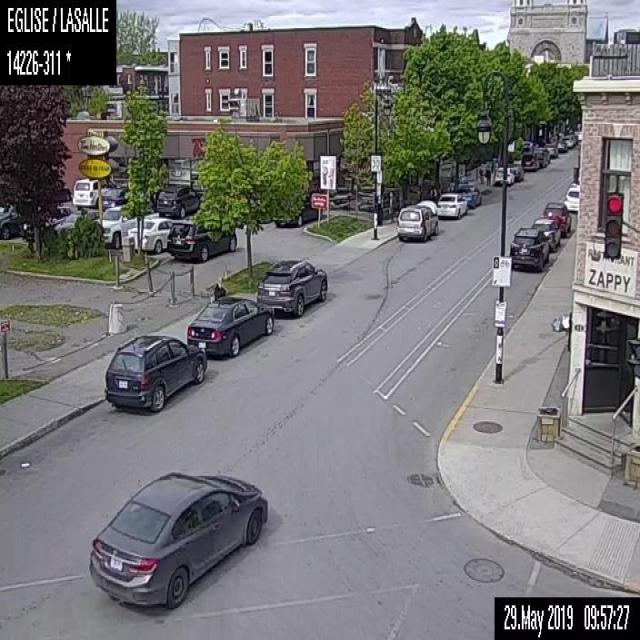pedestrian: (212, 274, 225, 298), (483, 168, 492, 185)
vehicle: (88, 468, 268, 608), (103, 331, 207, 414), (186, 295, 274, 360), (256, 257, 329, 319), (165, 218, 236, 259), (23, 204, 72, 242), (507, 226, 547, 272), (154, 182, 200, 216), (124, 217, 170, 250), (396, 206, 437, 241), (94, 206, 128, 248), (275, 196, 311, 227), (542, 197, 570, 236), (532, 216, 560, 249), (54, 210, 88, 237), (69, 174, 97, 205), (437, 192, 466, 218), (1, 202, 20, 240), (458, 183, 482, 210), (101, 186, 129, 204), (563, 181, 578, 212), (492, 167, 516, 185), (519, 150, 540, 170), (535, 146, 548, 168), (508, 163, 522, 180), (544, 144, 558, 156), (554, 140, 566, 153)
